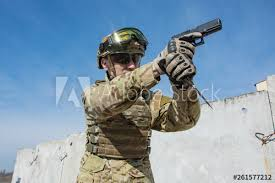gun: (167, 16, 228, 67)
